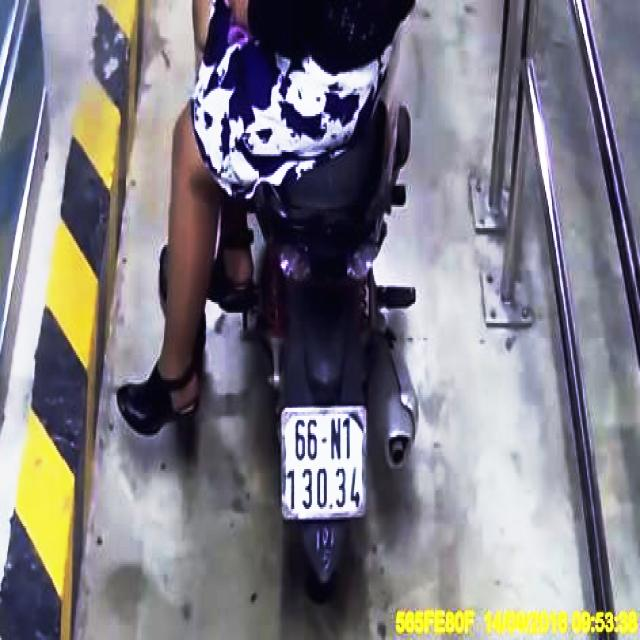license_plate: (281, 409, 368, 517)
